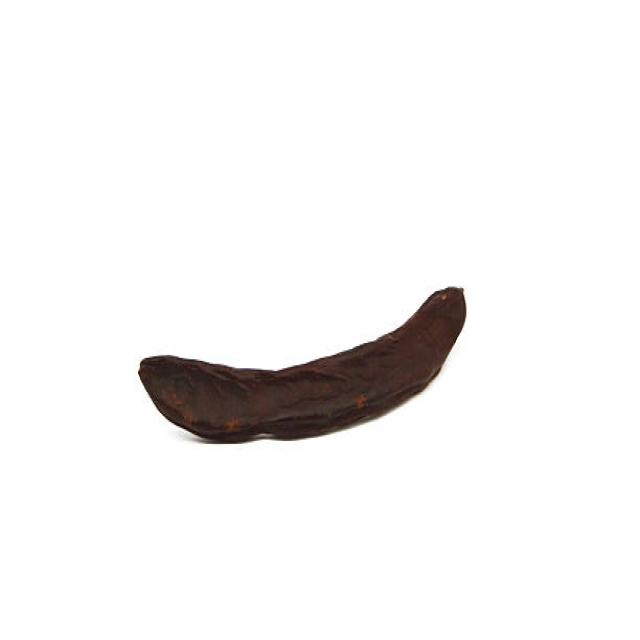Rotten: (138, 284, 468, 443)
